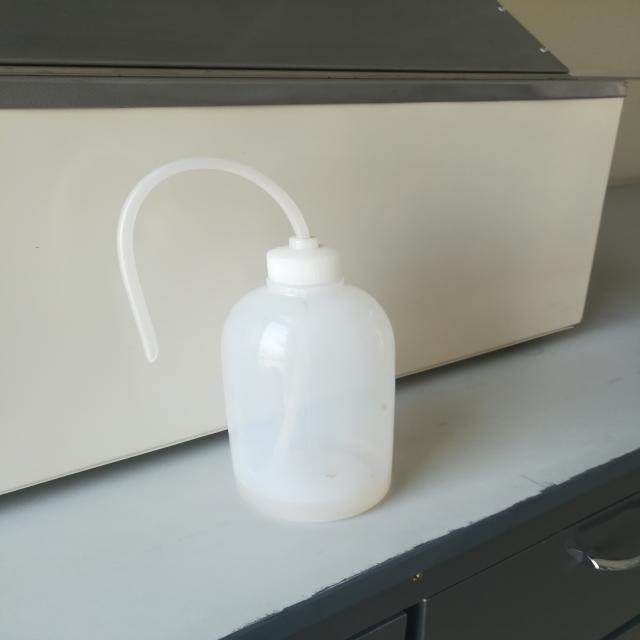Wash_Bottle: (84, 126, 425, 549)
